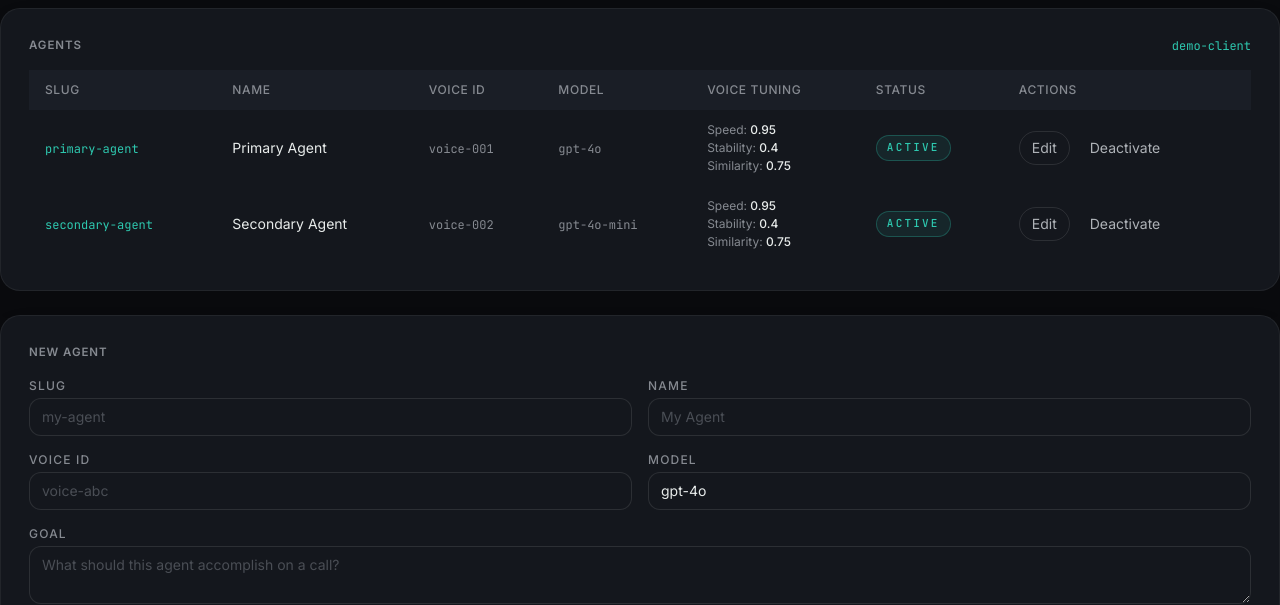
Scenario: AgentsSection revisions panel › refreshes the active revision after a successful rollback
Step 1. Click the button "Edit" in the row of "primary-agent" → (1044, 148), box [1019,131,1070,165]
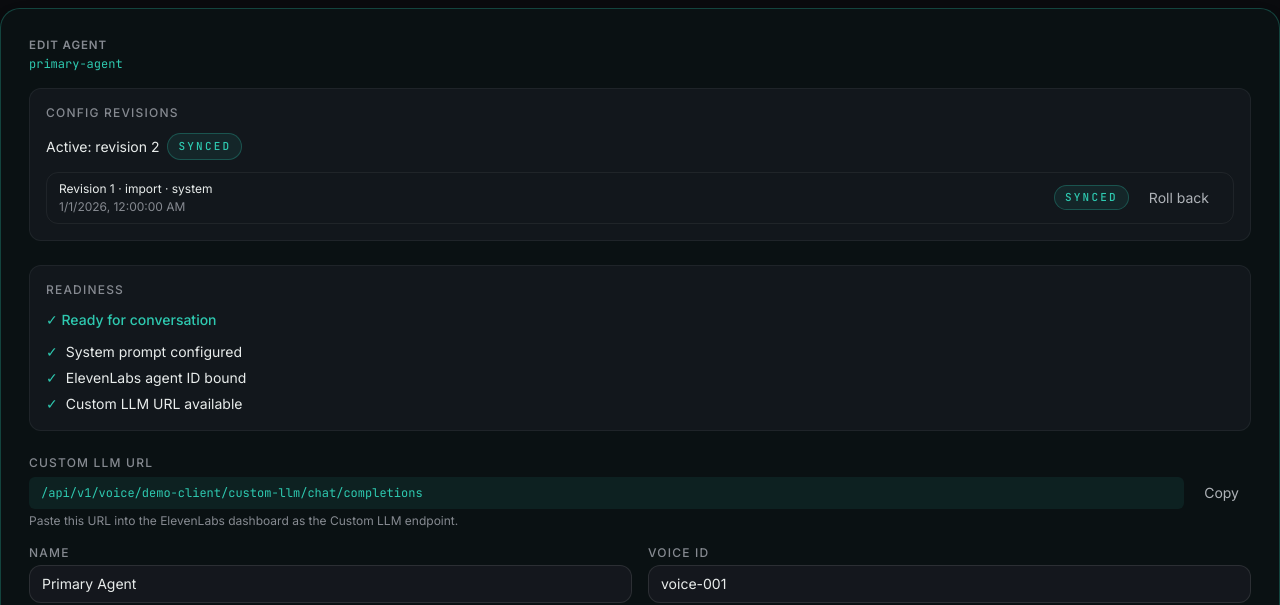
Check: the list with test id "revisions-history" is shown, box [46,172,1234,224]
Step 2. Click the button "Roll back" → (1179, 198), box [1137,182,1221,214]
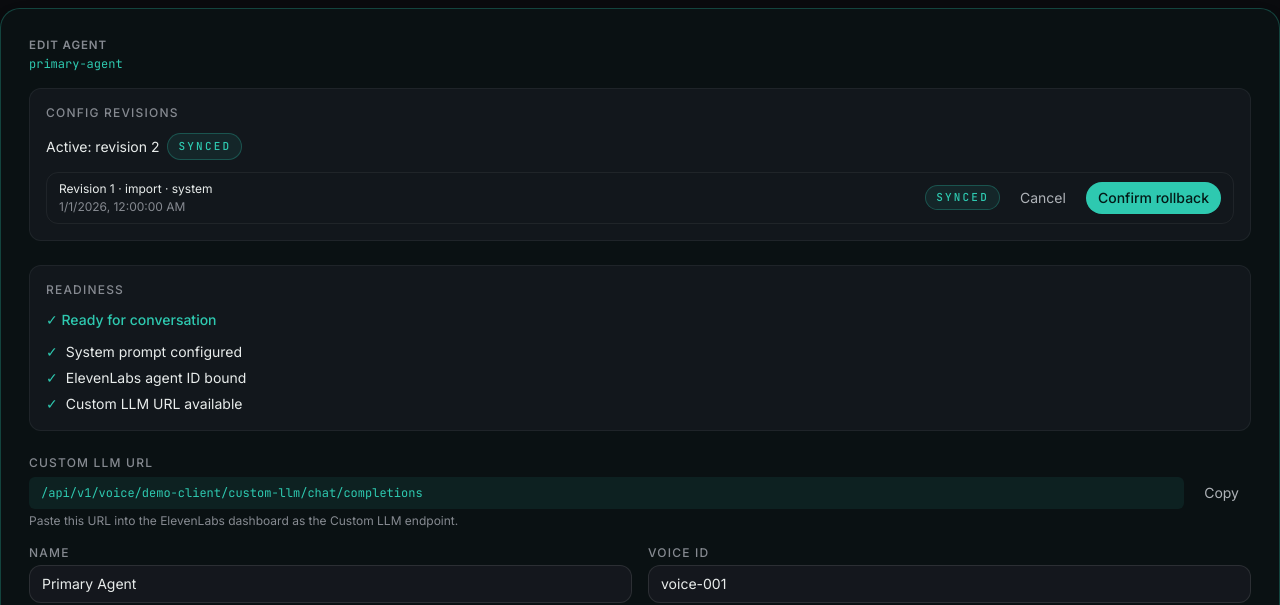
Step 3. Click the button "Confirm rollback" → (1153, 198), box [1086,182,1221,214]
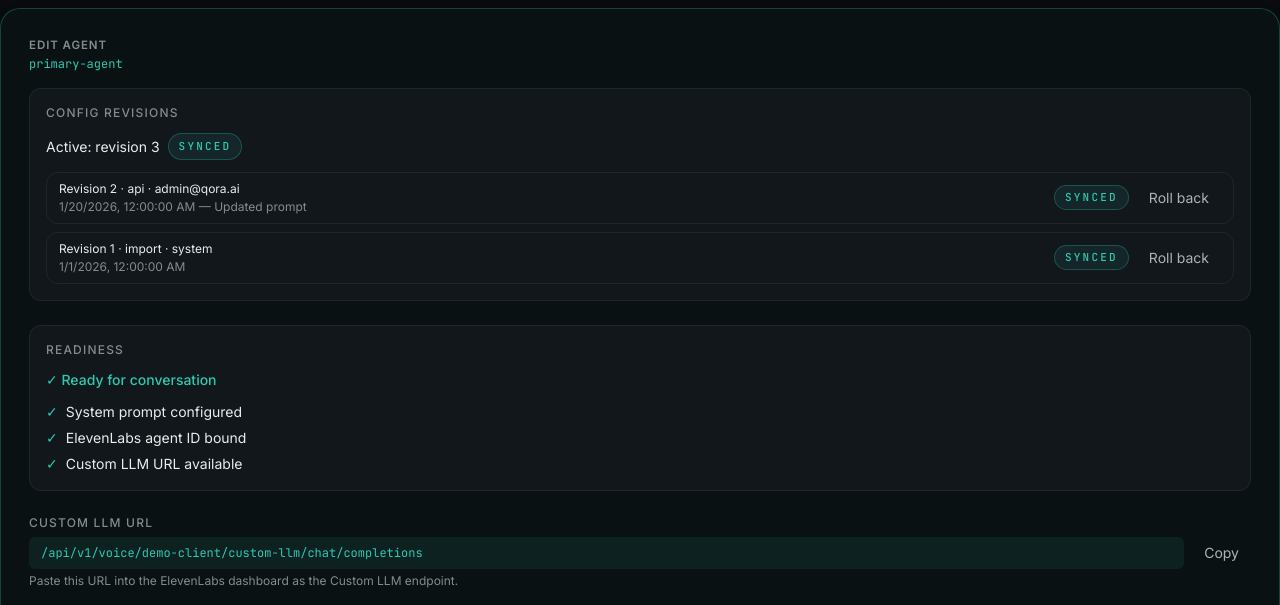
Check: the text "Active: revision 3" is shown, box [46,136,160,156]
